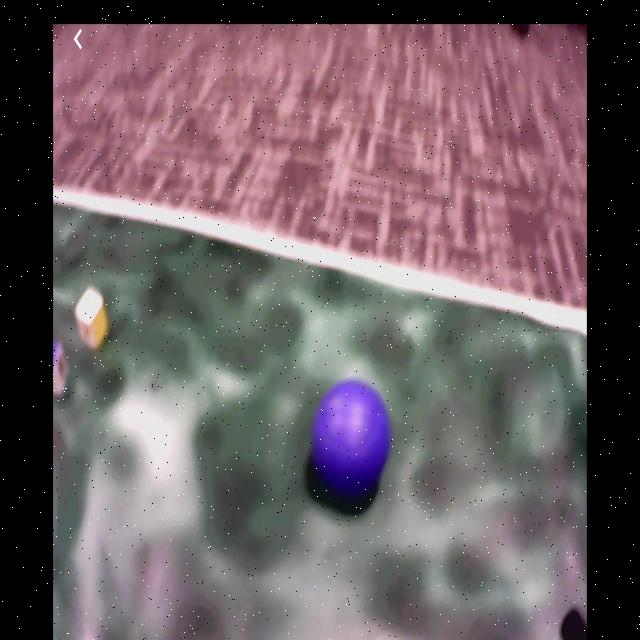ball: (315, 385, 391, 499)
